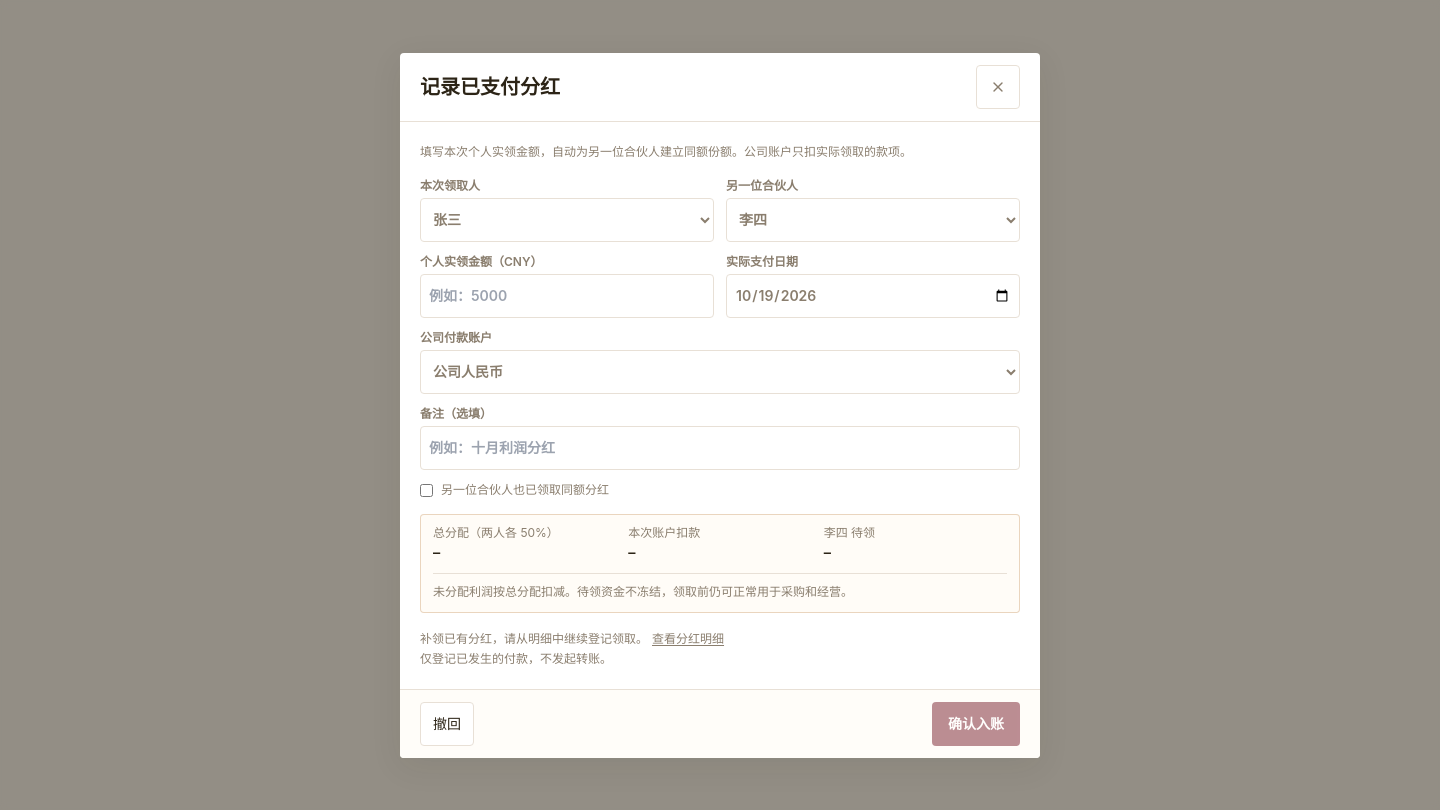
一次登记已支付分红 › 多人场景不猜选另一人，不能为同一人建立两个份额
Expected: the dropdown labelled "本次领取人" shows "张三", [420, 198, 714, 242]
Type "50.01" into the field labelled "个人实领金额（CNY）" at (567, 296), box [420, 274, 714, 318]
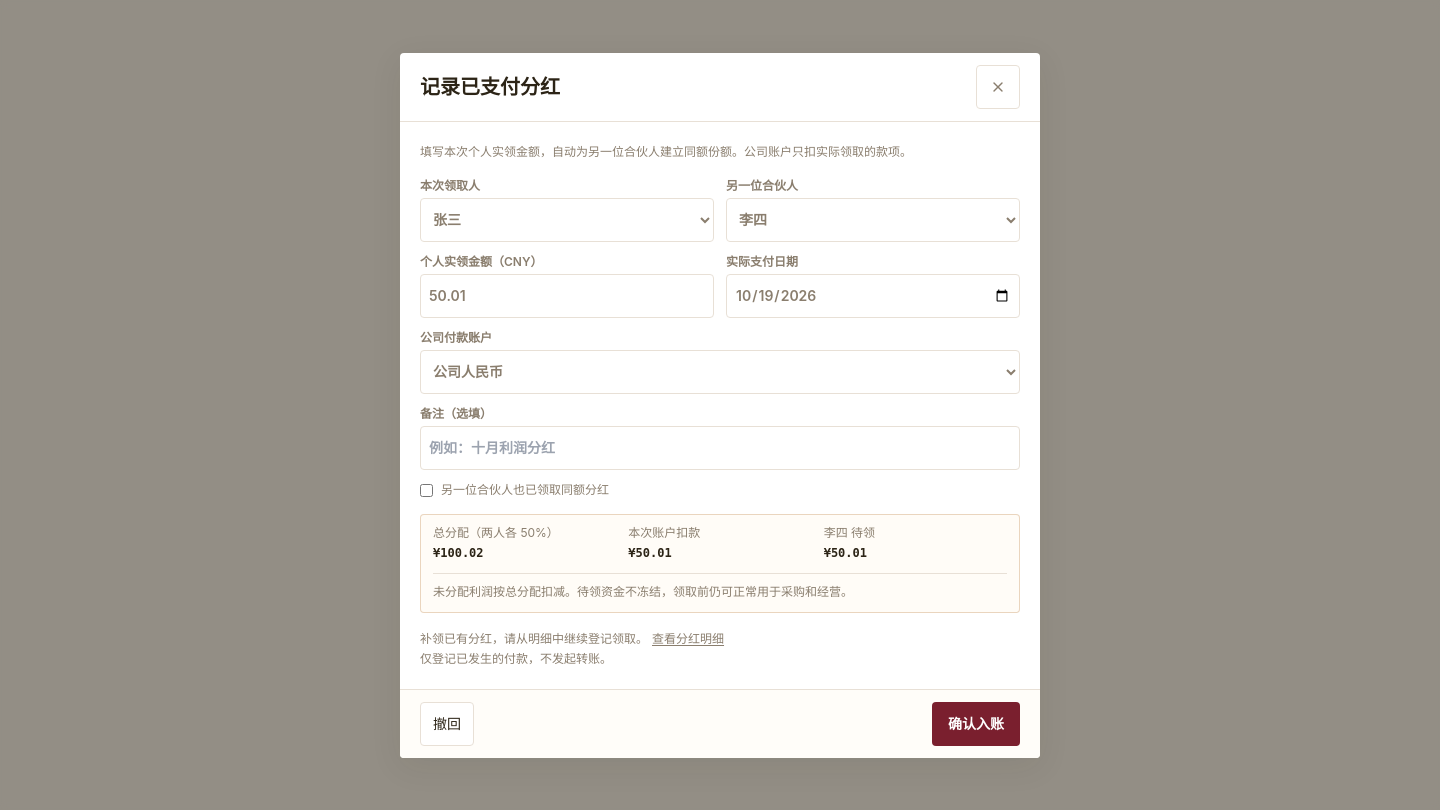
Select "李四" in the dropdown labelled "本次领取人" at (567, 220), box [420, 198, 714, 242]
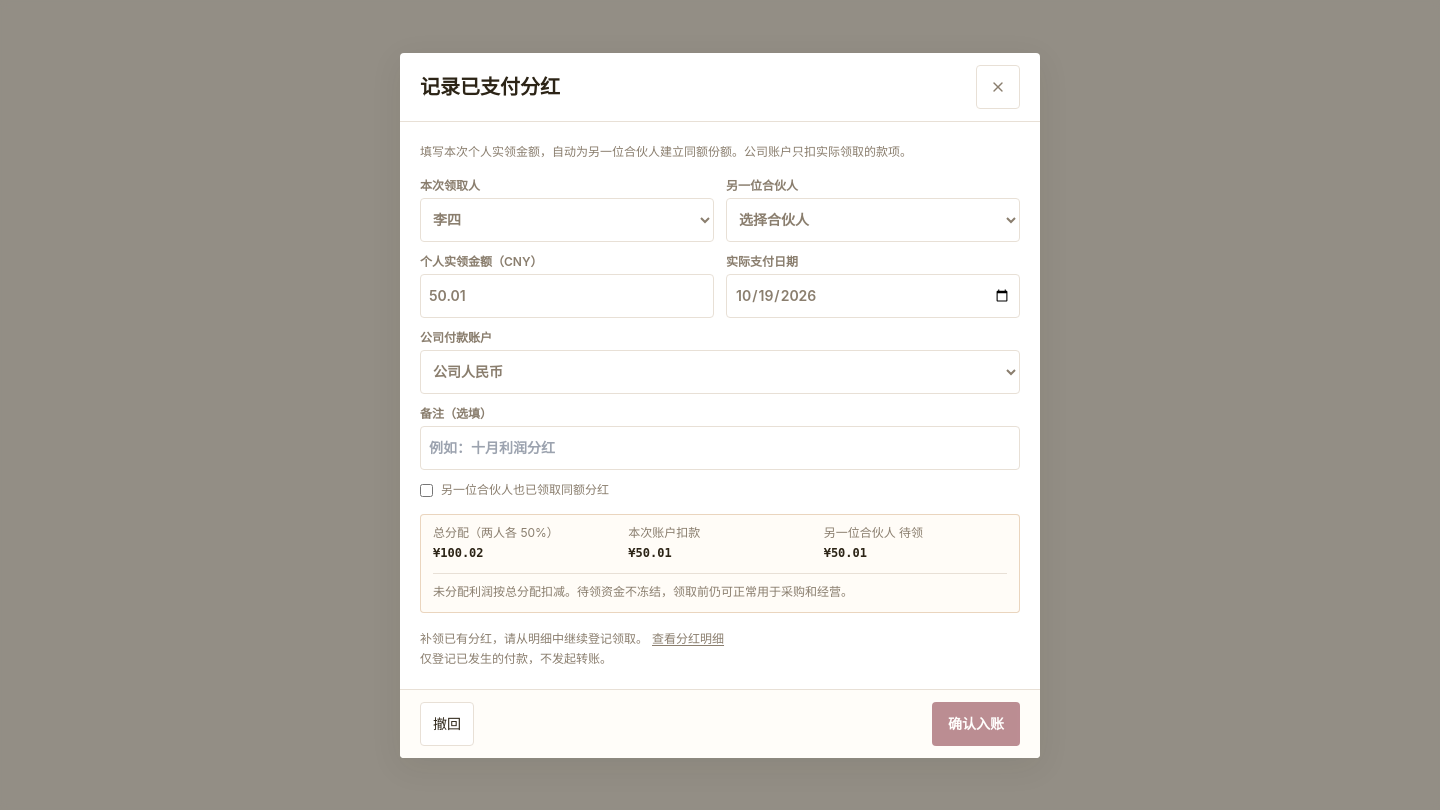
Result: the dropdown labelled "另一位合伙人" shows "选择合伙人" at [726, 198, 1020, 242]
Result: the button "确认入账" is disabled at [932, 702, 1020, 746]
